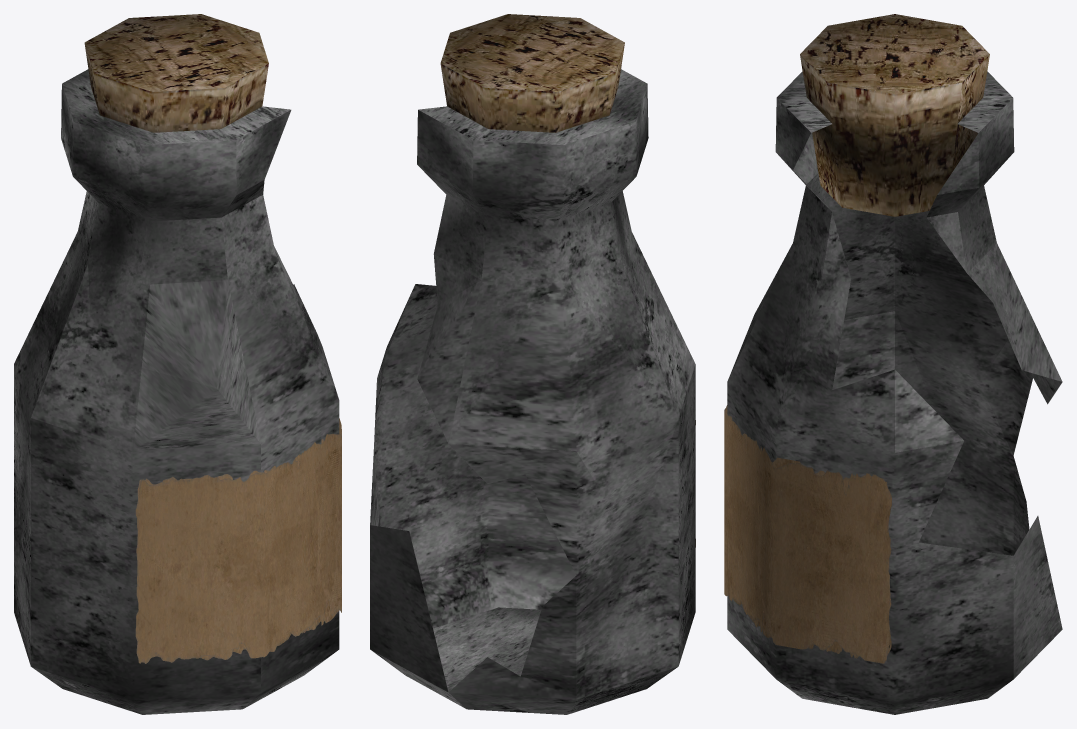
Rendered from key_jar_broken.dae.
3 views of the same model, side by side, from view 1: azimuth 30°, elevation 25°; view 2: azimuth 150°, elevation 25°; view 3: azimuth 270°, elevation 25° (orthographic).
Visible parts, largest first — view 1: part2, part4, polySurface14, part1, par3; view 2: part4, part2, par3, part1; view 3: part2, part4, polySurface14, part1, par3.
Part boxes in pixels (<box>): part2: <box>25,180,339,714</box>; part4: <box>14,69,291,496</box>; polySurface14: <box>135,418,341,663</box>; part1: <box>84,14,268,132</box>; par3: <box>14,437,30,664</box>; part4: <box>417,69,678,574</box>; part2: <box>370,284,695,708</box>; par3: <box>448,499,678,714</box>; part1: <box>440,14,624,132</box>; part2: <box>727,171,1062,714</box>; part4: <box>775,71,1062,455</box>; polySurface14: <box>724,405,891,663</box>; part1: <box>800,14,989,216</box>; par3: <box>919,383,1029,555</box>.
Size of the model in its own units: 0.1065 by 0.2114 by 0.1071.
